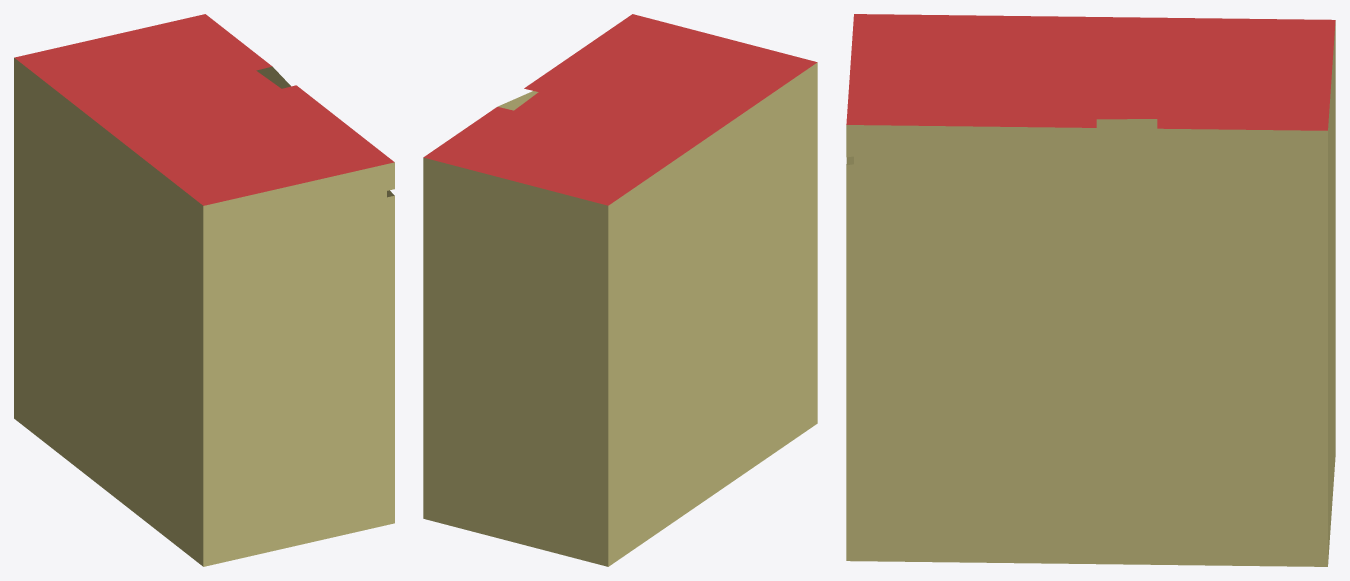
The picture shows the model from 3 angles, left to right: view 1: azimuth 30°, elevation 25°; view 2: azimuth 150°, elevation 25°; view 3: azimuth 270°, elevation 25°; orthographic projection. The views are drawn at different scales.
Bounding box in the file's own units: 3.19 × 5.64 × 5.55.
